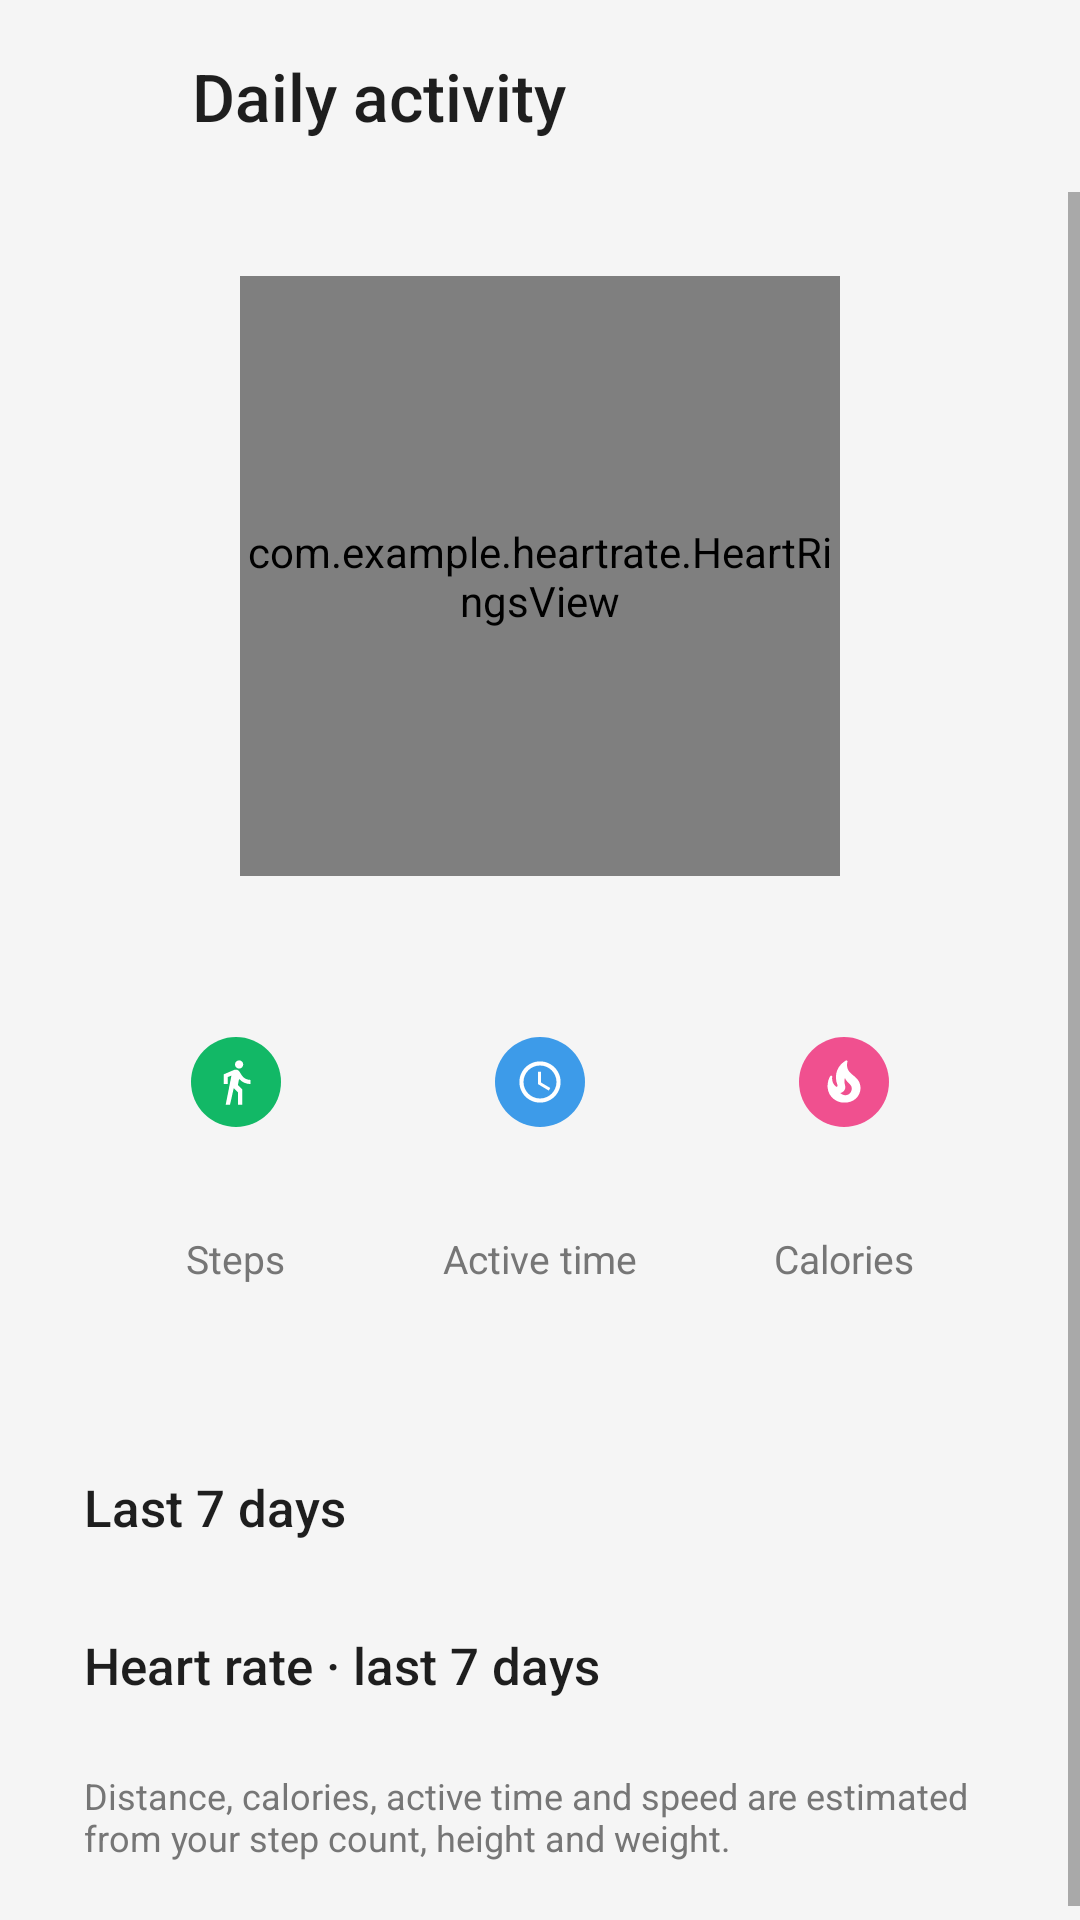

Icon click points for this 1080px×1920px phone screenshot, format point (x, y):
dot kcal: point (844, 1082)
dot time: point (540, 1082)
